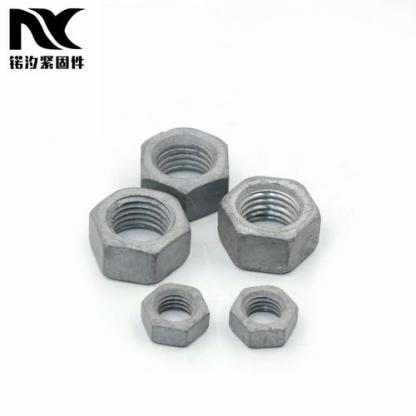FOD: (81, 184, 196, 286), (214, 176, 324, 274), (138, 125, 232, 220), (224, 284, 302, 351), (138, 281, 211, 348)
